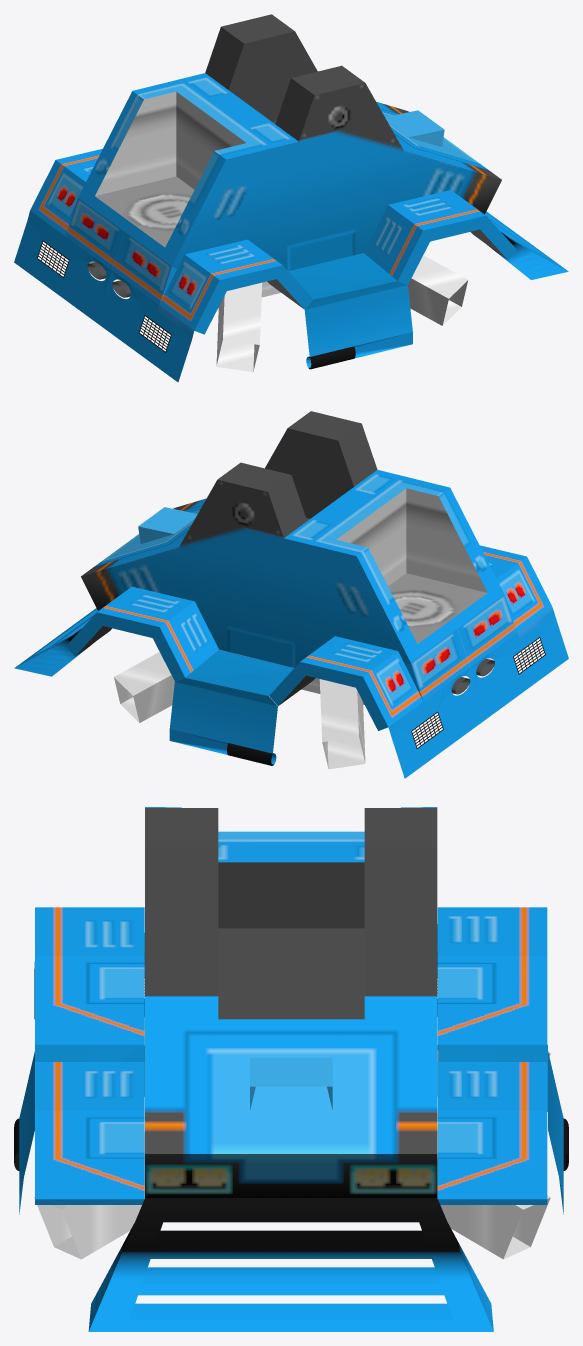
File: lem1w.obj
The picture shows the model from 3 angles, top to bottom: view 1: azimuth 30°, elevation 25°; view 2: azimuth 150°, elevation 25°; view 3: azimuth 270°, elevation 25°; orthographic projection. The views are drawn at different scales.
Visible parts, largest first — view 1: ColobotMesh_1_ColobotMesh_, Rear_bumper_ColobotMesh_.003, Sides_ColobotMesh_.004, Front_bumper_ColobotMesh_.001, Hood_Plane, Exhaust_ColobotMesh_.002; view 2: ColobotMesh_1_ColobotMesh_, Rear_bumper_ColobotMesh_.003, Sides_ColobotMesh_.004, Front_bumper_ColobotMesh_.001, Hood_Plane, Exhaust_ColobotMesh_.002; view 3: ColobotMesh_1_ColobotMesh_, Front_bumper_ColobotMesh_.001, Sides_ColobotMesh_.004, Hood_Plane.
Boxes of the visible parts, x1,y1,x2,y2 form: ColobotMesh_1_ColobotMesh_: (30, 14, 516, 372); Rear_bumper_ColobotMesh_.003: (14, 198, 193, 382); Sides_ColobotMesh_.004: (288, 253, 412, 369); Front_bumper_ColobotMesh_.001: (485, 211, 568, 279); Hood_Plane: (385, 110, 444, 147); Exhaust_ColobotMesh_.002: (87, 262, 130, 297); ColobotMesh_1_ColobotMesh_: (66, 411, 552, 769); Rear_bumper_ColobotMesh_.003: (388, 594, 568, 778); Sides_ColobotMesh_.004: (169, 650, 293, 765); Front_bumper_ColobotMesh_.001: (14, 608, 97, 676); Hood_Plane: (138, 507, 197, 543); Exhaust_ColobotMesh_.002: (451, 659, 494, 694); ColobotMesh_1_ColobotMesh_: (34, 807, 550, 1259); Front_bumper_ColobotMesh_.001: (88, 1198, 493, 1331); Sides_ColobotMesh_.004: (14, 1044, 568, 1214); Hood_Plane: (250, 1057, 332, 1110).
Size of the model in its own units: 10.06 by 5.5 by 7.6.
